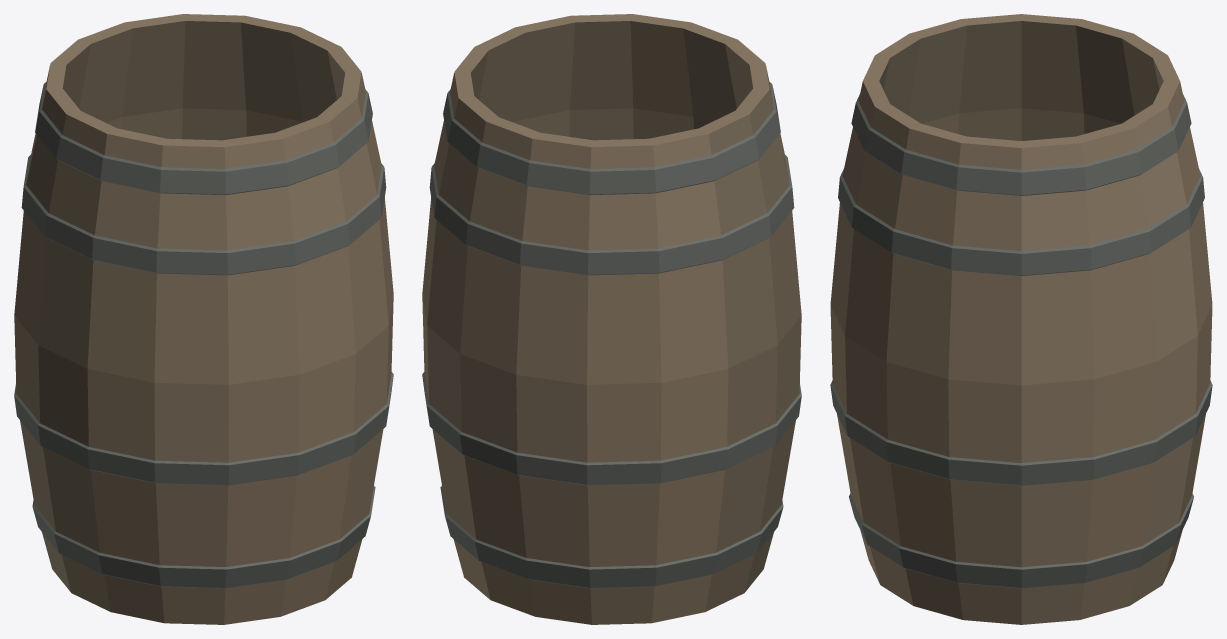
The model's file is env_barrel_v06_open_empty.glb.
3 views of the same model, side by side, from view 1: azimuth 30°, elevation 25°; view 2: azimuth 150°, elevation 25°; view 3: azimuth 270°, elevation 25° (orthographic).
Parts seen in each view (by area): view 1: material_0, material_2, material_3; view 2: material_0, material_2, material_3, material_5; view 3: material_0, material_5, material_3, material_2.
Part boxes in pixels (<box>): material_0: <box>26,14,393,624</box>; material_2: <box>14,21,344,611</box>; material_3: <box>14,82,393,588</box>; material_0: <box>422,14,789,624</box>; material_2: <box>471,21,801,611</box>; material_3: <box>422,82,801,588</box>; material_5: <box>427,98,490,599</box>; material_0: <box>830,14,1212,624</box>; material_5: <box>1021,107,1197,624</box>; material_3: <box>830,94,1212,588</box>; material_2: <box>879,21,1163,140</box>.
Bounding box in the file's own units: 0.6505 × 0.9 × 0.6505.
